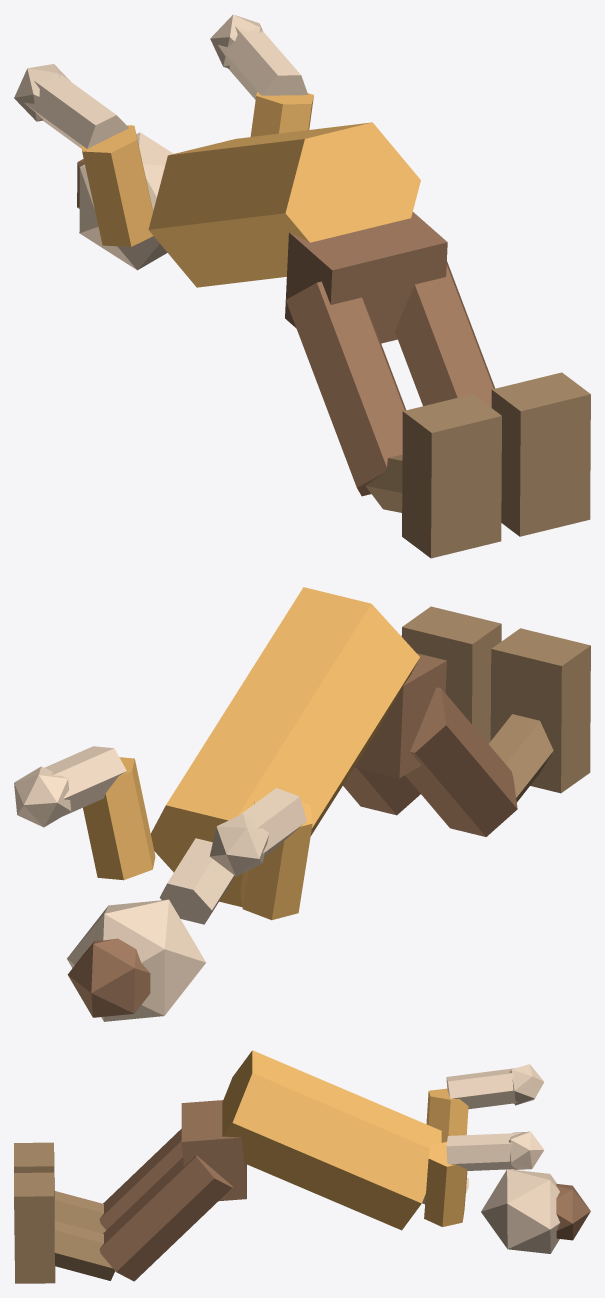
File: pose_dodge_roll_18.glb
3 views of the same model, one above another, from view 1: azimuth 30°, elevation 25°; view 2: azimuth 150°, elevation 25°; view 3: azimuth 270°, elevation 25° (orthographic). The views are drawn at different scales.
Parts seen in each view (by area): view 1: pose; view 2: pose; view 3: pose.
Boxes of the visible parts, box(x1,y1,x2,y2) form: pose: box(14, 14, 590, 558); pose: box(14, 587, 590, 1021); pose: box(14, 1050, 590, 1283).
Size of the model in its own units: 0.4876 by 0.5509 by 1.44.
